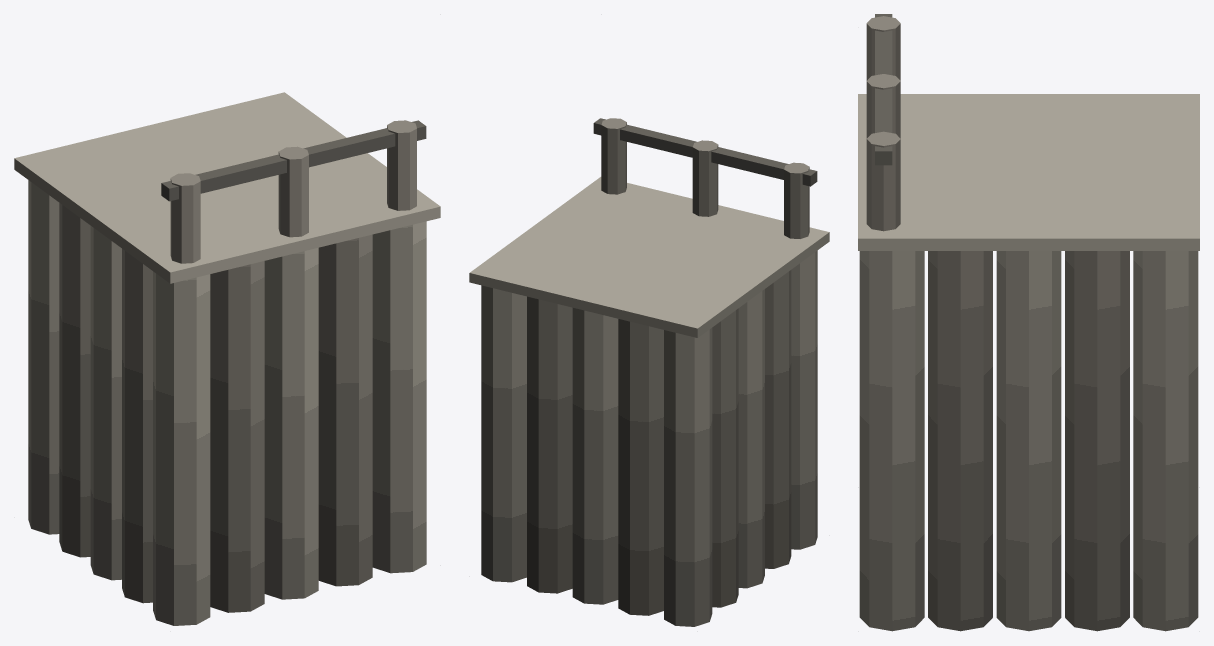
File: perimeter_wall_stone_f11.glb
3 renders of one model, left to right at view 1: azimuth 30°, elevation 25°; view 2: azimuth 150°, elevation 25°; view 3: azimuth 270°, elevation 25°, orthographic. The views are drawn at different scales.
Bounding box in the file's own units: 2 × 3.9 × 2.
1 material, 1 textured.
